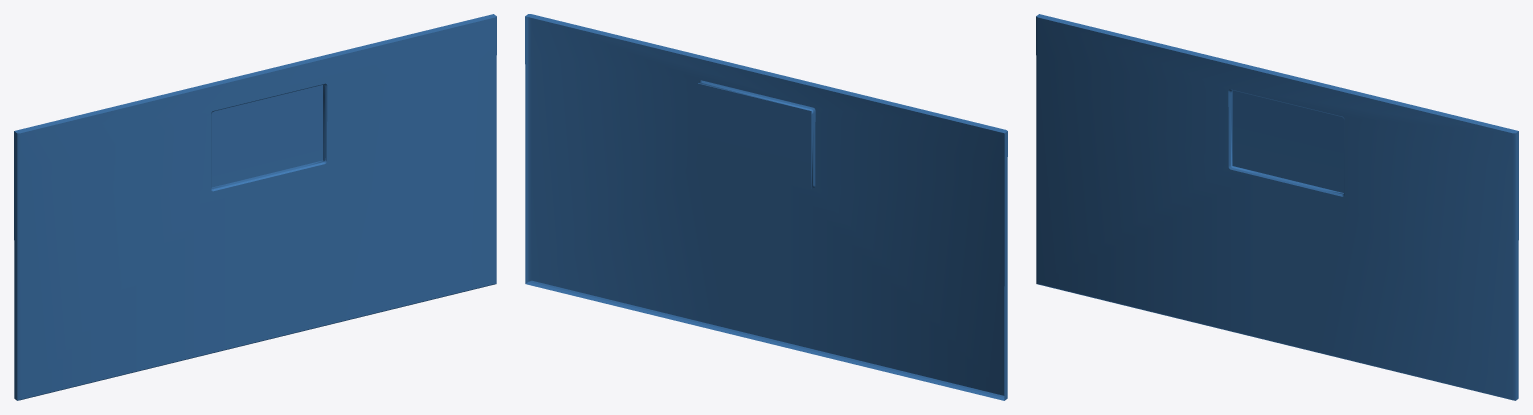
Rendered from bigsides_3.fbx.
The picture shows the model from 3 angles, left to right: view 1: azimuth 30°, elevation 25°; view 2: azimuth 150°, elevation 25°; view 3: azimuth 330°, elevation 25°; orthographic projection.
Visible parts, largest first — view 1: Bigsides_box2; view 2: Bigsides_box2; view 3: Bigsides_box2.
Part boxes in pixels (bbox=[...]): Bigsides_box2: bbox=[14, 14, 496, 400]; Bigsides_box2: bbox=[525, 14, 1007, 400]; Bigsides_box2: bbox=[1036, 14, 1518, 400].
Bounding box in the file's own units: 2113 × 1127 × 30.22.
